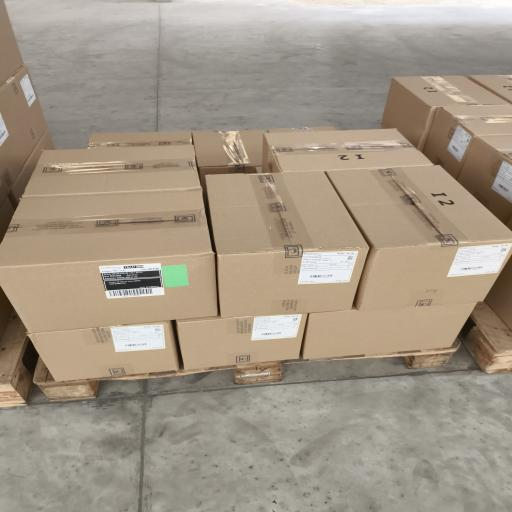pallet: (34, 340, 460, 401), (462, 303, 511, 373), (0, 312, 36, 407), (34, 358, 98, 401), (234, 363, 283, 384)
